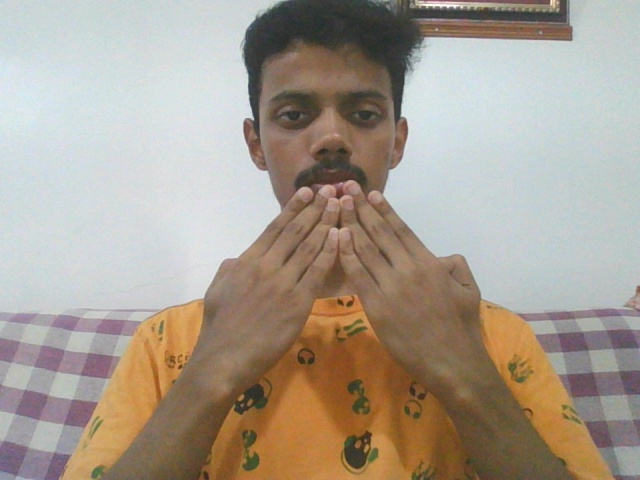ThankYou: (204, 180, 481, 367)
